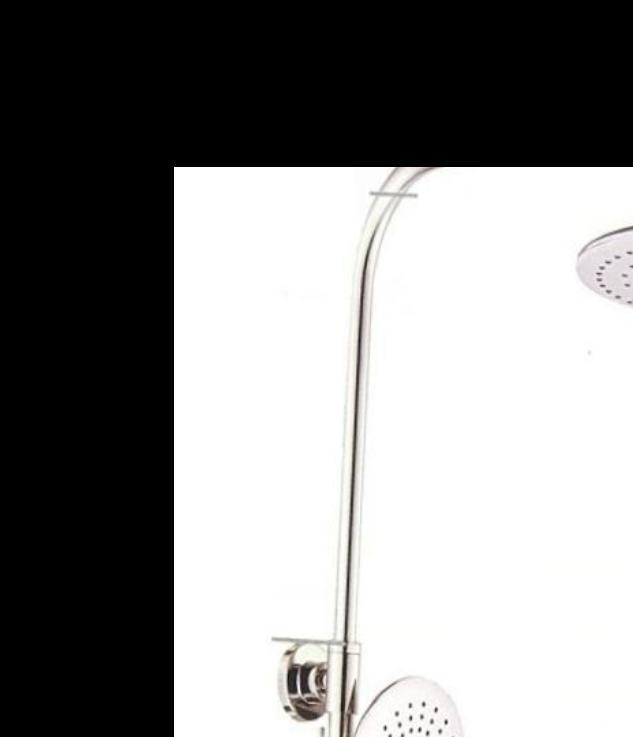Ducha: (300, 41, 633, 737)
